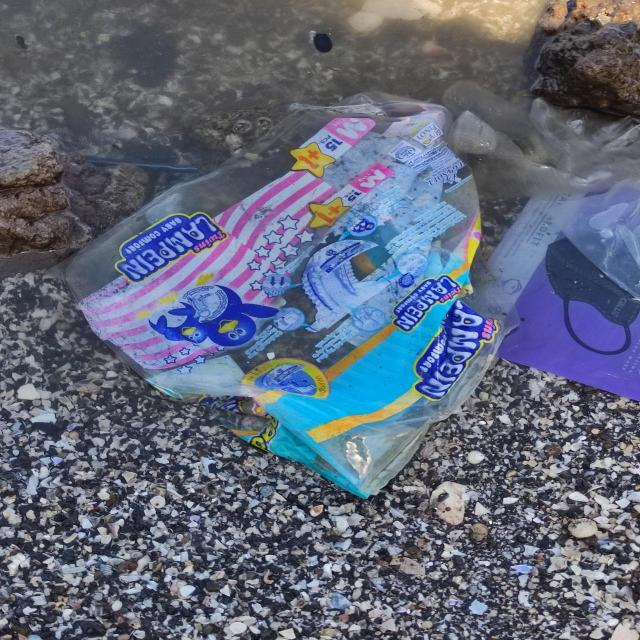plastic_waste: (60, 91, 524, 500)
